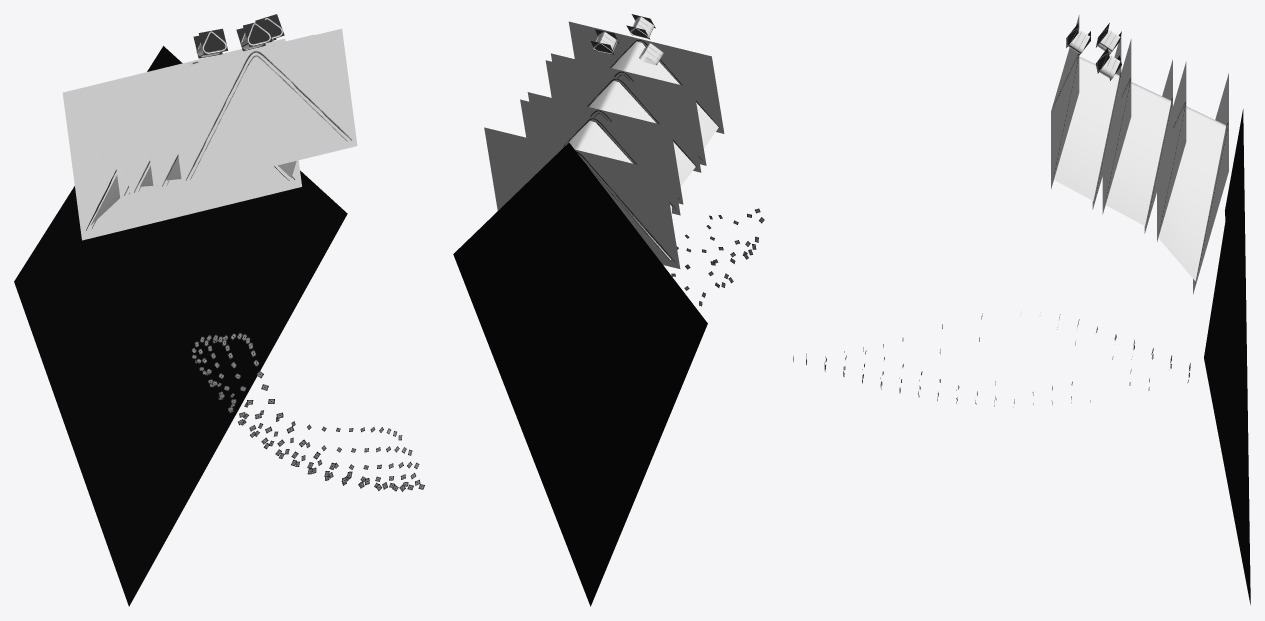
File: inizio.dae
3 renders of one model, left to right at view 1: azimuth 30°, elevation 25°; view 2: azimuth 150°, elevation 25°; view 3: azimuth 270°, elevation 25°, orthographic. The views are drawn at different scales.
Visible parts, largest first — view 1: no_alpha (×2), topgrande (×6), spirale, megapattern_top (×2); view 2: no_alpha (×4), topgrande (×6), spirale; view 3: no_alpha (×4), topgrande (×6).
Boxes of the visible parts, x1,y1,x2,y2 form: no_alpha (×2): (14, 46, 347, 606); topgrande (×6): (62, 28, 357, 240); spirale: (191, 332, 424, 491); megapattern_top (×2): (198, 20, 272, 55); no_alpha (×4): (453, 41, 718, 606); topgrande (×6): (484, 21, 724, 268); spirale: (671, 208, 764, 306); no_alpha (×4): (1054, 56, 1250, 604); topgrande (×6): (1051, 15, 1228, 294).
Size of the model in its own units: 525 by 1003 by 701.
7 materials, 5 textured.
